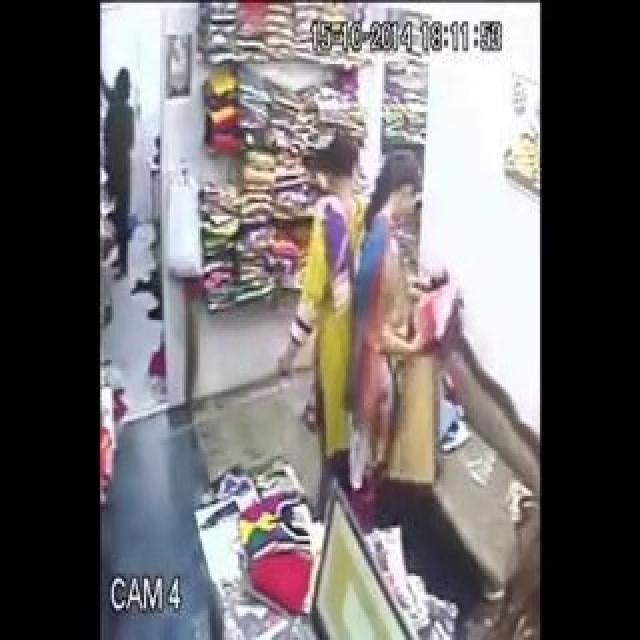Shoplifting: (363, 145, 463, 500)
